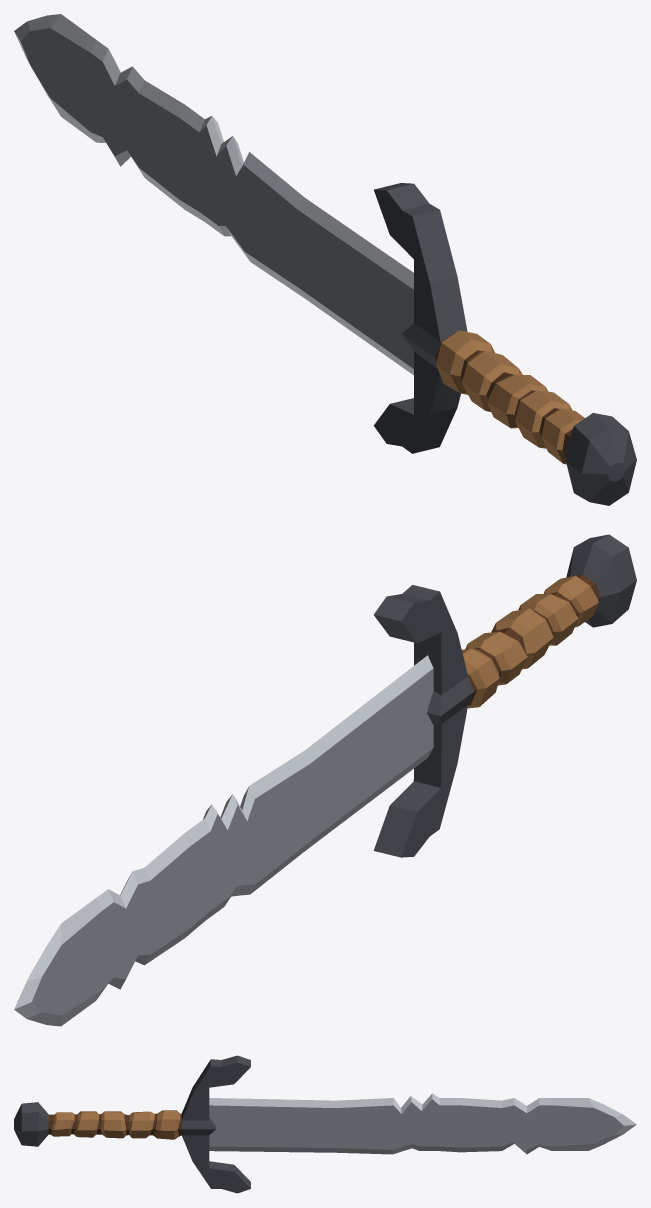
The model's file is melee.sword.glb.
3 renders of one model, top to bottom at view 1: azimuth 30°, elevation 25°; view 2: azimuth 150°, elevation 25°; view 3: azimuth 270°, elevation 25°, orthographic. The views are drawn at different scales.
Visible parts, largest first — view 1: melee.sword; view 2: melee.sword; view 3: melee.sword.
Part boxes in pixels (box(x1,y1,x2,y2)): melee.sword: box(14, 14, 636, 505); melee.sword: box(14, 534, 636, 1026); melee.sword: box(14, 1055, 636, 1193).
Size of the model in its own units: 0.0504 by 0.2205 by 0.95.
